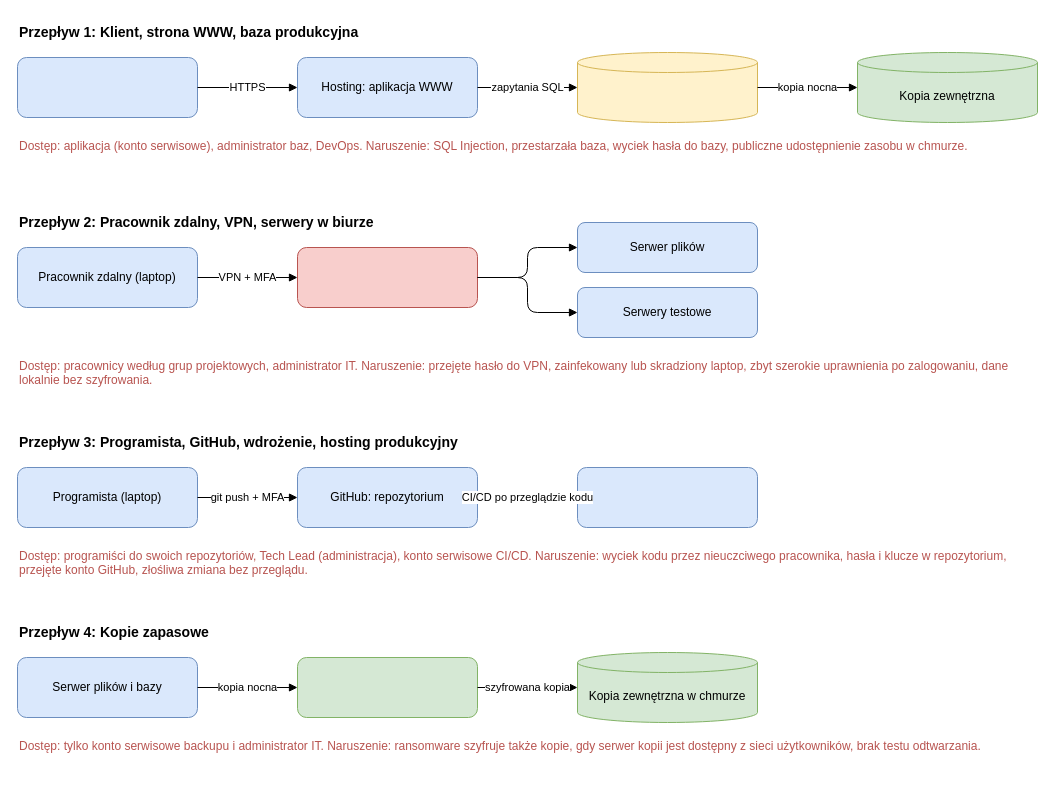
This 1055x789 diagram has some shape labels left out. The centre of each missing label's shape, as x and y in pixels:
Baza produkcyjna: the point at 667,87
Firewall + bramka VPN: the point at 387,277
Hosting produkcyjny: the point at 667,497
Klient: the point at 107,87
Serwer kopii zapasowych: the point at 387,687
